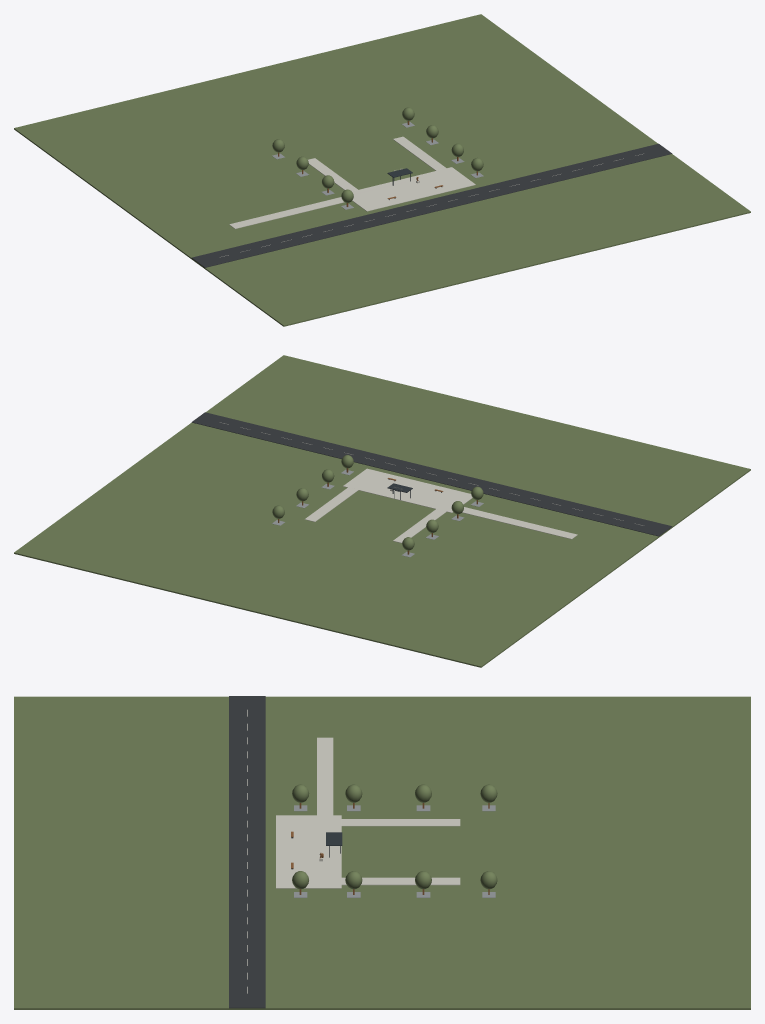
The model's file is SM_LegacyTower_Site.fbx.
3 views of the same model, one above another, from view 1: azimuth 30°, elevation 25°; view 2: azimuth 150°, elevation 25°; view 3: azimuth 270°, elevation 25° (orthographic). The views are drawn at different scales.
Parts seen in each view (by area): view 1: SM_LegacyTower_Site; view 2: SM_LegacyTower_Site; view 3: SM_LegacyTower_Site.
Part boxes in pixels (<box>): SM_LegacyTower_Site: <box>14,14,750,326</box>; SM_LegacyTower_Site: <box>14,355,750,667</box>; SM_LegacyTower_Site: <box>14,696,750,1009</box>.
Size of what is drawn, in the model's own units: 18000 by 18000 by 697.
